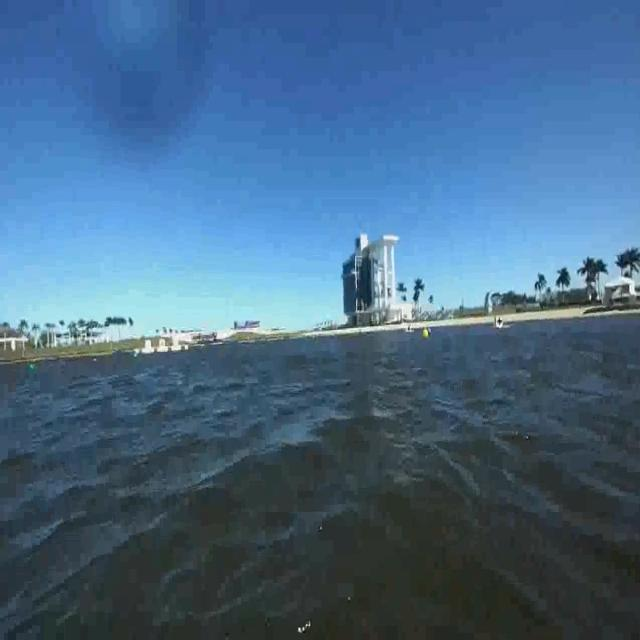yellow-buoy: (422, 326, 430, 339)
